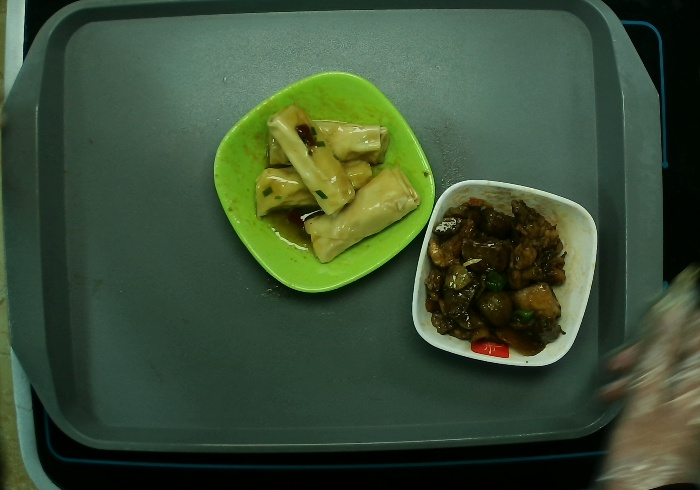SHKJ-Bai_Se_Xiao_Fang_Die: (411, 178, 601, 368)
SHKJ-Lv_Se_Cai_Die: (211, 71, 436, 295)
